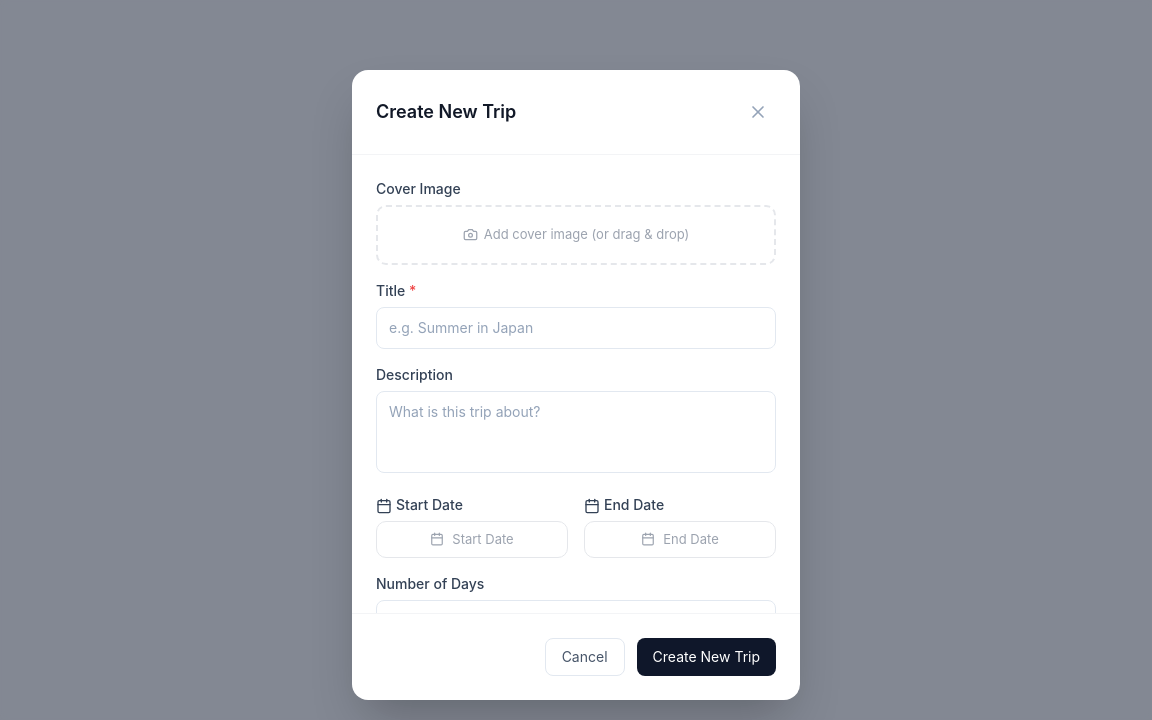
Test: TripFormModal › FE-COMP-TRIPFORM-009: submitting with empty title shows error
Click the button "Create New Trip": (706, 657) [637,638,776,676]
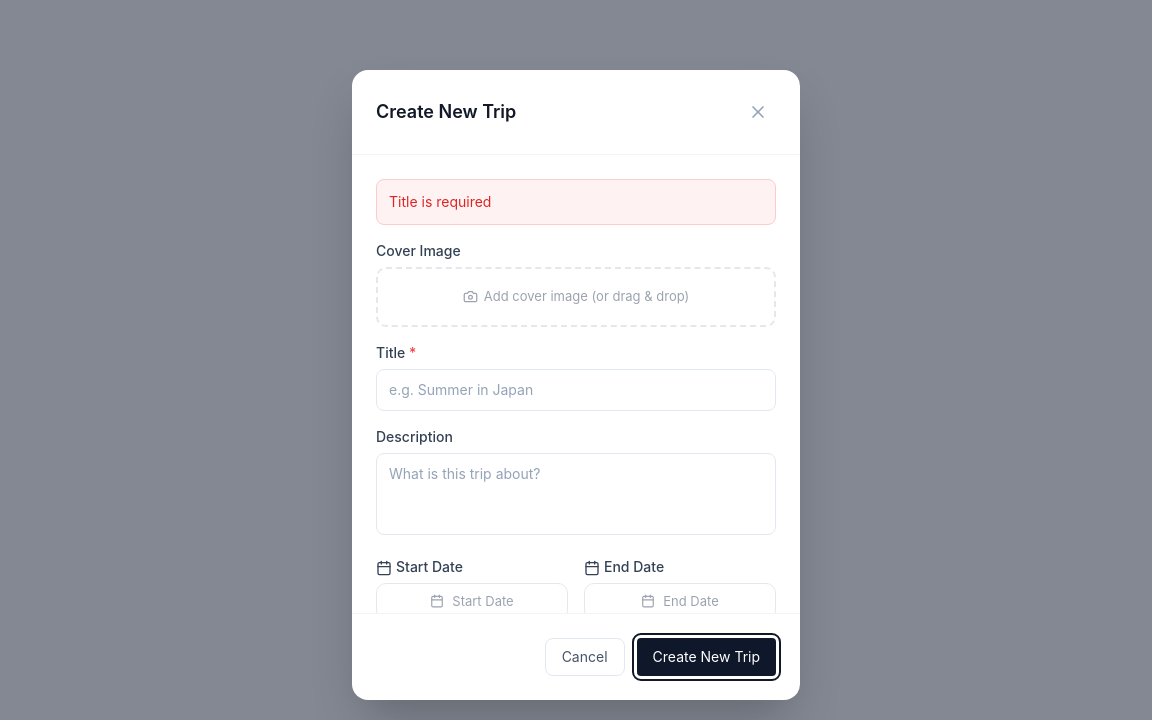
Expected: the text "Title is required" is shown, [376,179,776,225]
